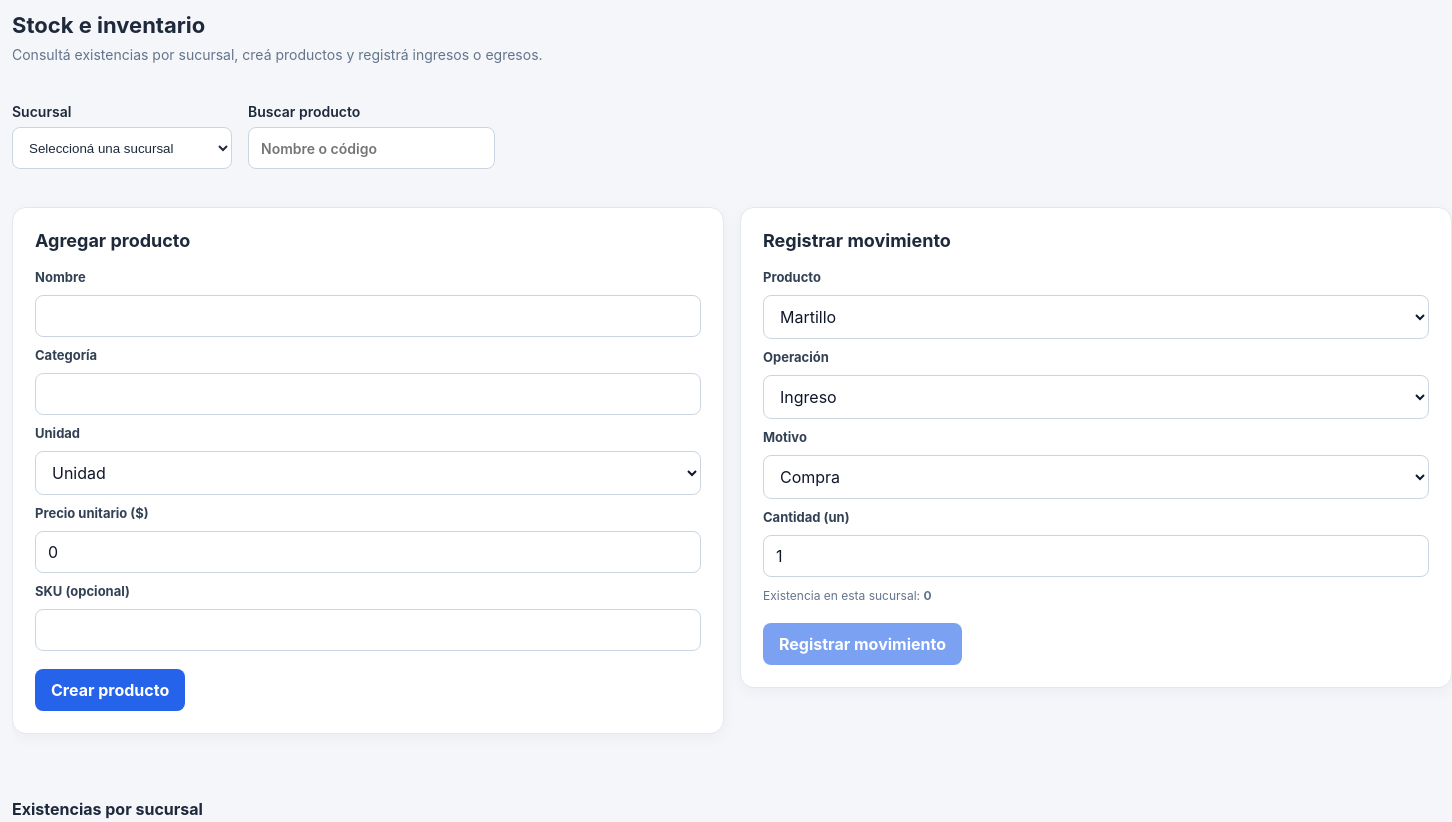
Test: Integración de StockManagement › permite crear un producto y convierte su precio a centavos
This screenshot has width=1452, height=822.
Type "Taladro" into the field labelled "Nombre" at (368, 316), box [35,295,701,337]
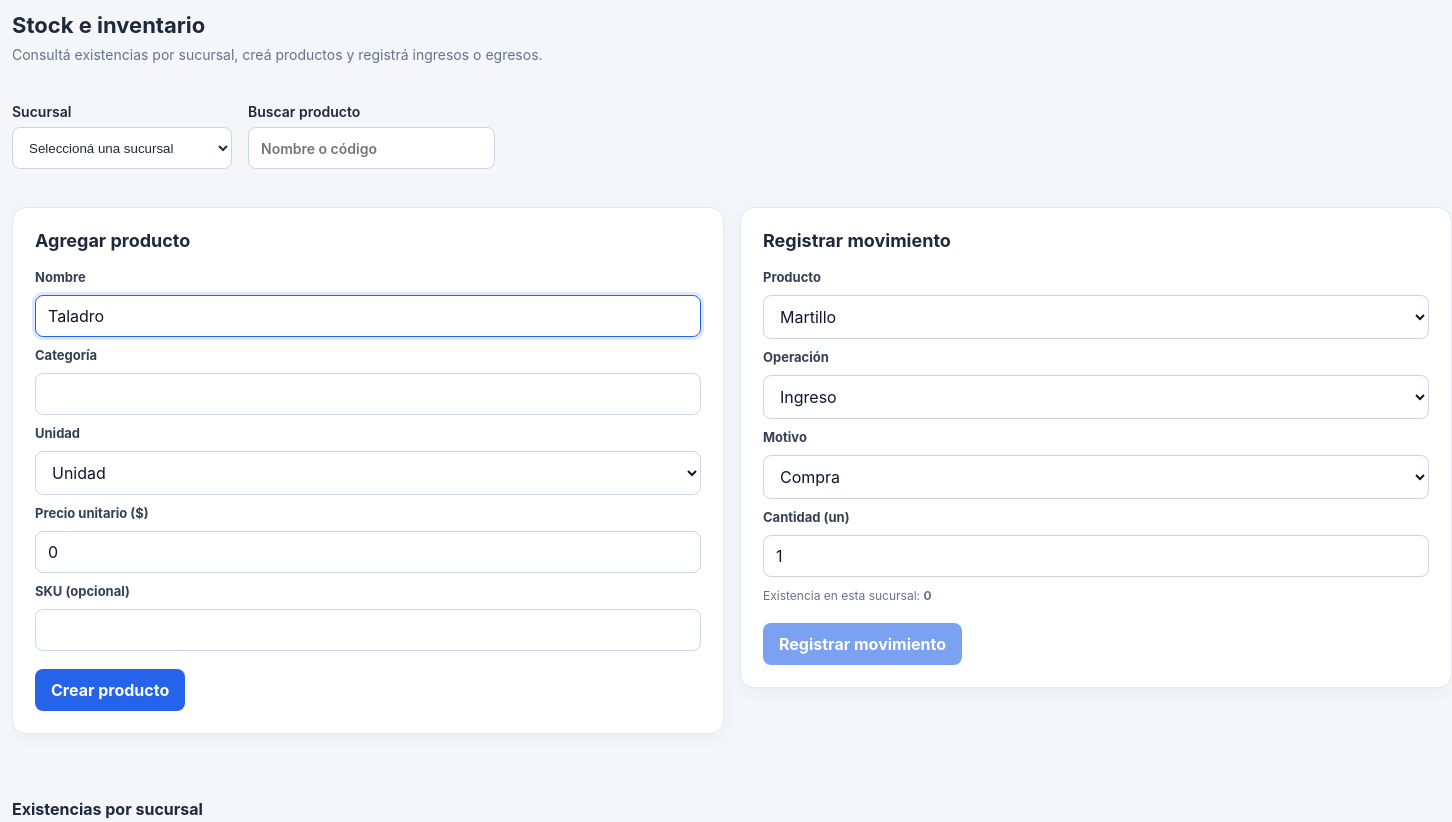
Type "Máquinas" into the field labelled "Categoría" at (368, 394), box [35,373,701,415]
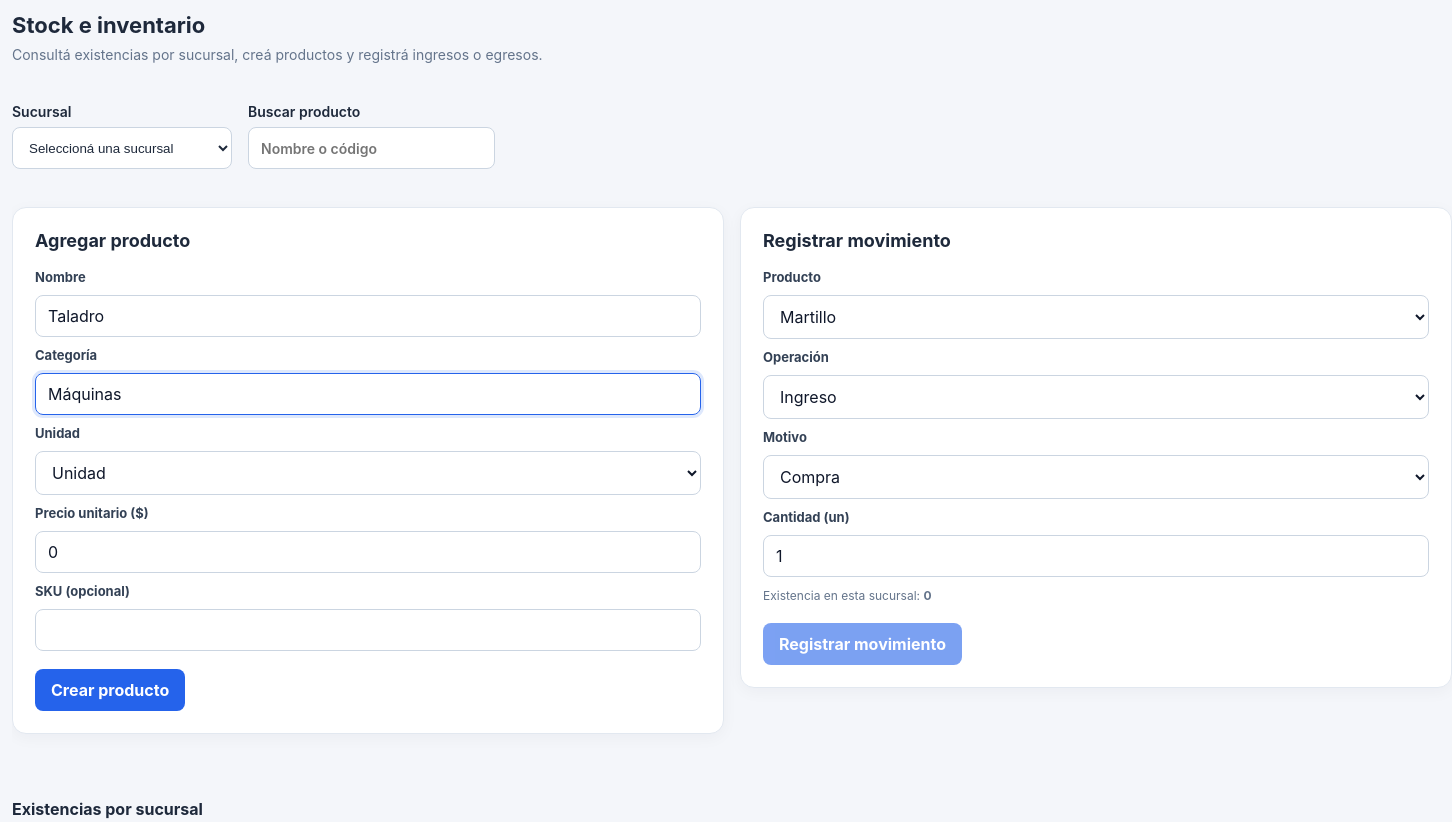
Replace the text in the number field labelled "Precio unitario ($)" with "1250.50" at (368, 552), box [35,531,701,573]
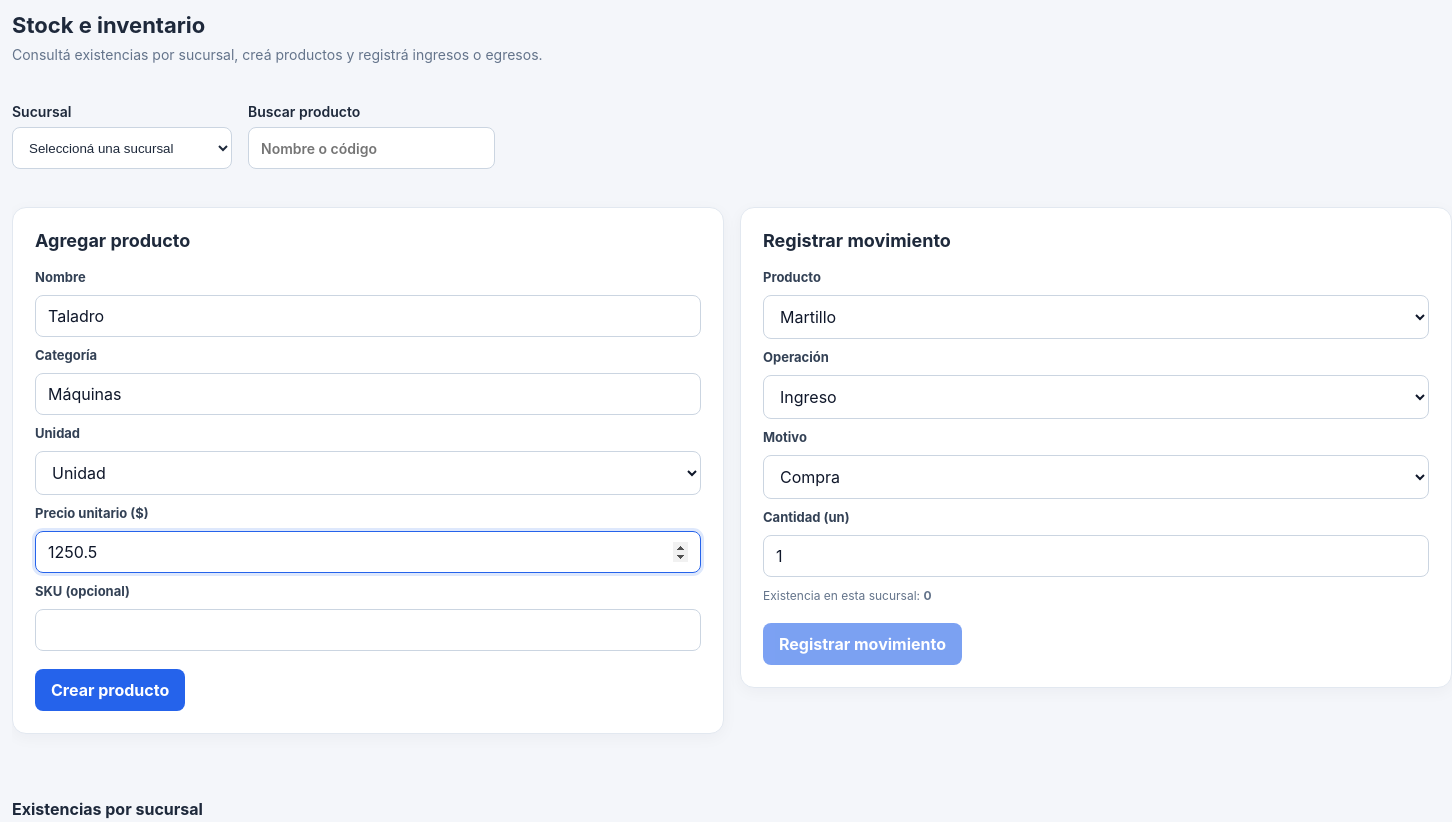
Click the button "Crear producto" at (110, 690), box [35,669,185,711]
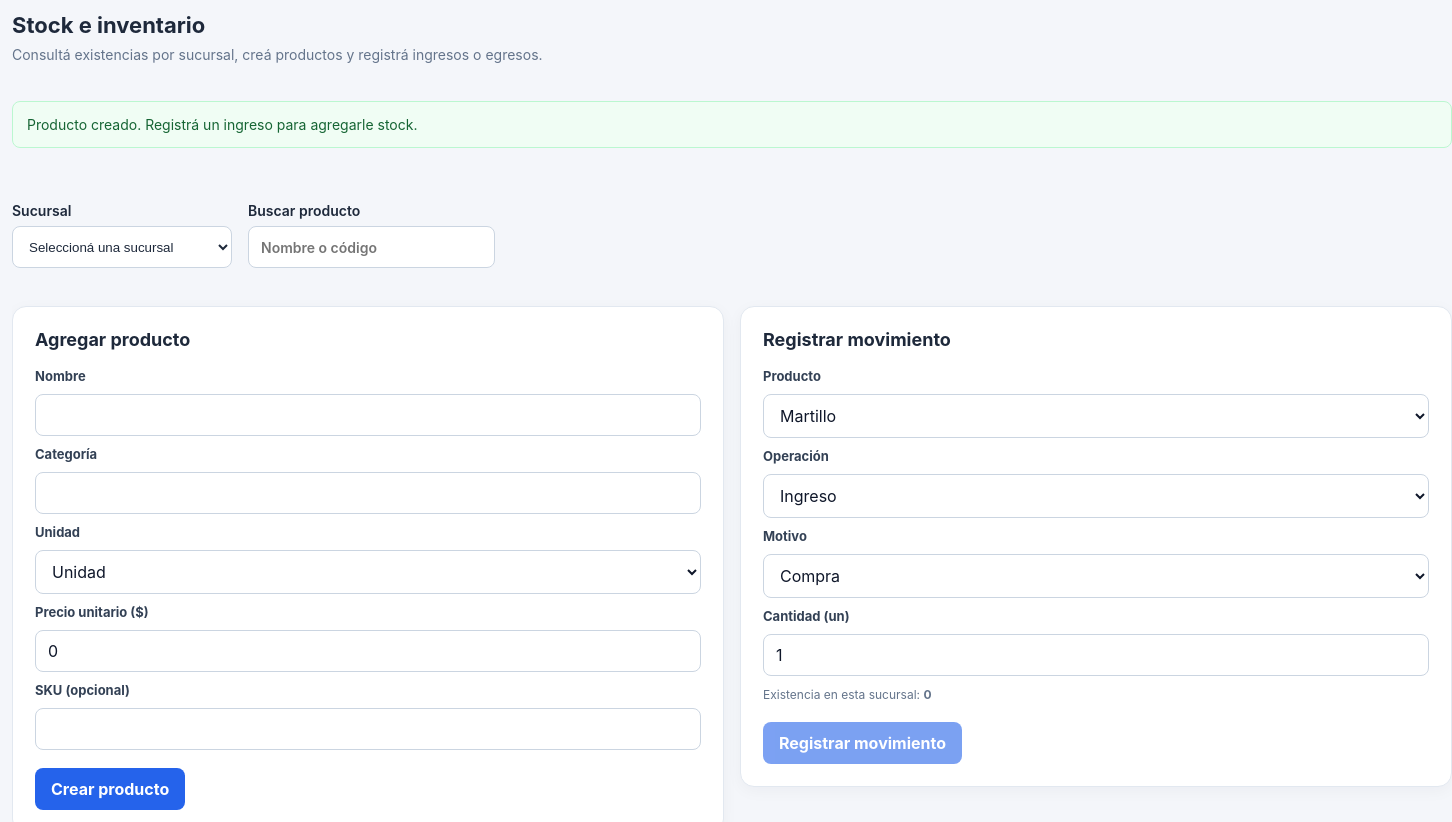
Result: the text "Producto creado. Registrá un ingreso para agregarle stock." is shown at [12,101,1451,148]
